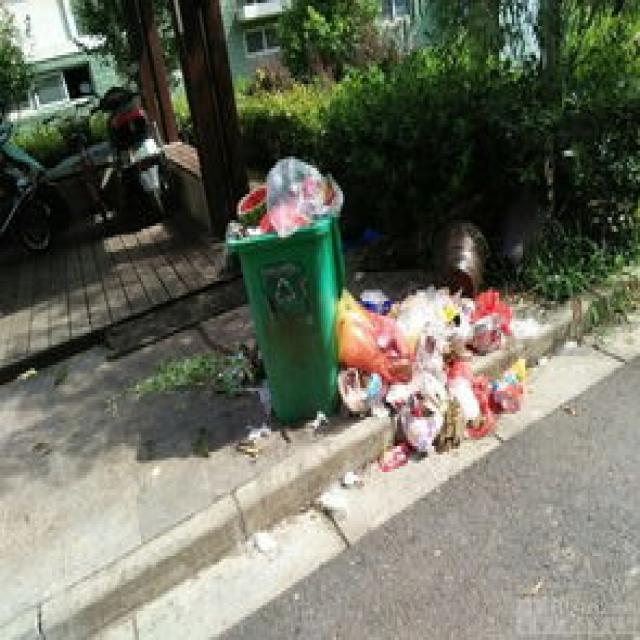garbage: (332, 281, 525, 466), (137, 333, 269, 458)
overflow: (221, 153, 345, 417)
